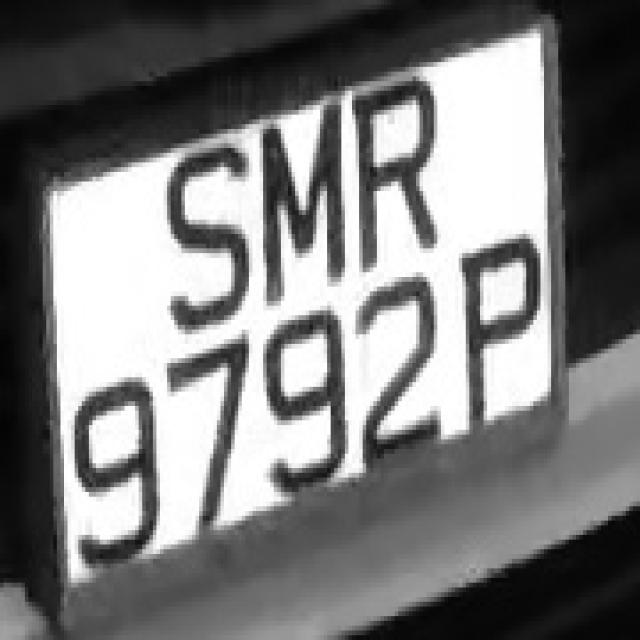2: (352, 286, 455, 482)
7: (160, 339, 263, 559)
9: (249, 310, 352, 511), (64, 372, 164, 578)
M: (252, 91, 356, 301)
P: (455, 224, 548, 463)
R: (345, 76, 448, 248)
S: (153, 129, 263, 334)
